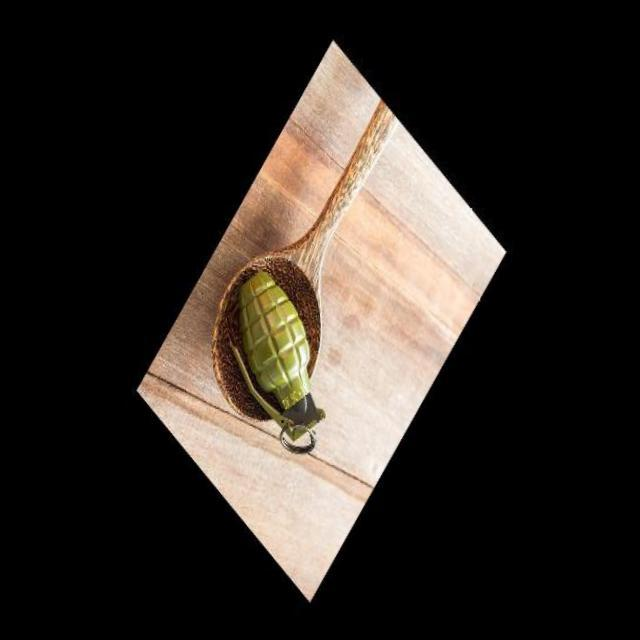grenade: (218, 268, 334, 464)
